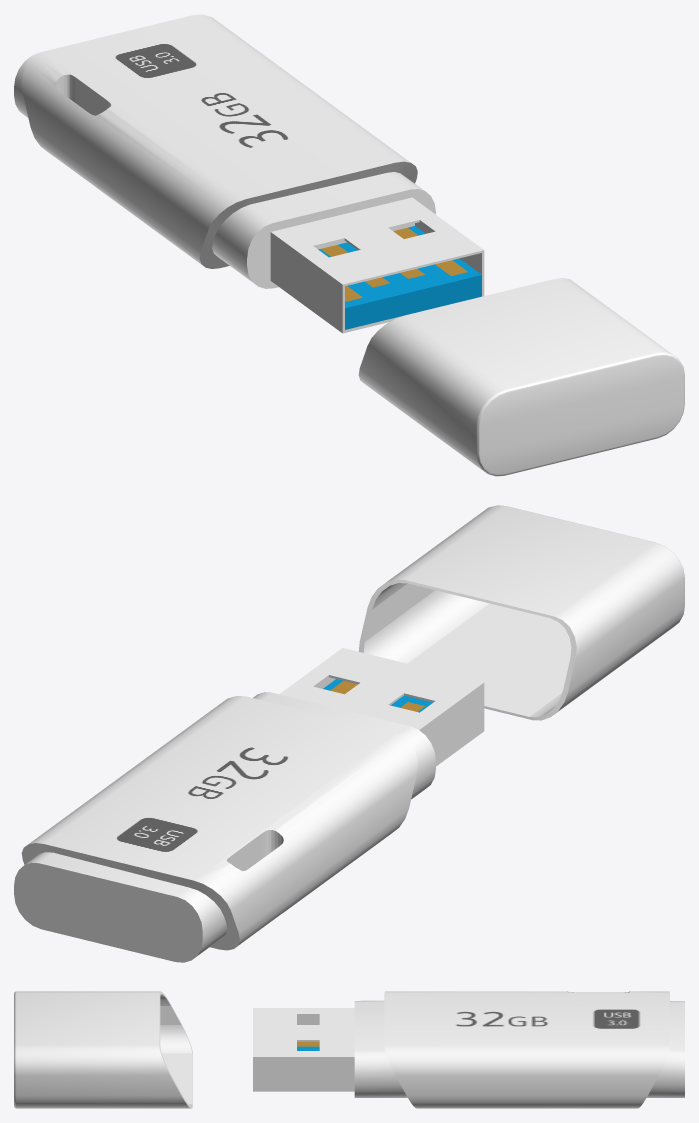
Rendered from 20usb.glb.
3 views of the same model, one above another, from view 1: azimuth 30°, elevation 25°; view 2: azimuth 150°, elevation 25°; view 3: azimuth 270°, elevation 25° (orthographic). The views are drawn at different scales.
Parts seen in each view (by area): view 1: Cube, Cube.001; view 2: Cube, Cube.001; view 3: Cube, Cube.001.
Boxes of the visible parts, x1,y1,x2,y2 form: Cube: (14, 14, 484, 333); Cube.001: (358, 278, 684, 476); Cube: (14, 648, 484, 962); Cube.001: (358, 505, 684, 720); Cube: (253, 991, 684, 1108); Cube.001: (14, 991, 192, 1108).
Size of the model in its own units: 0.6181 by 0.2436 by 2.44.
4 materials, 1 textured.
